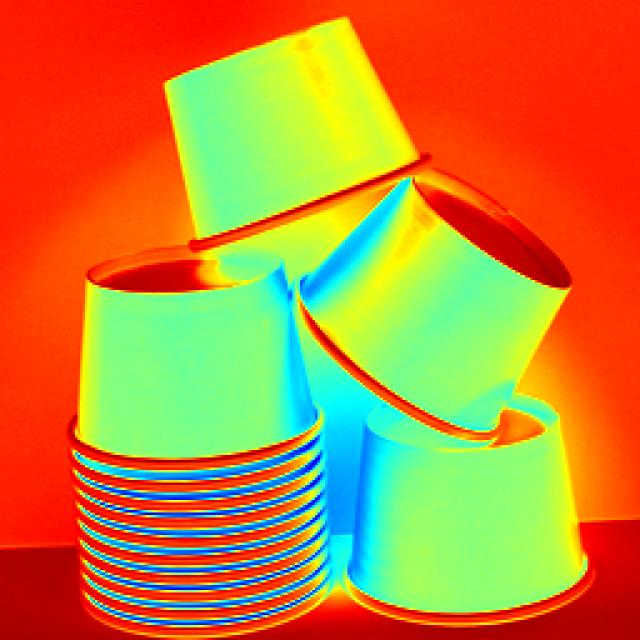Paper Cups: (325, 174, 547, 410), (350, 406, 584, 618), (155, 47, 419, 217), (74, 263, 318, 423)
